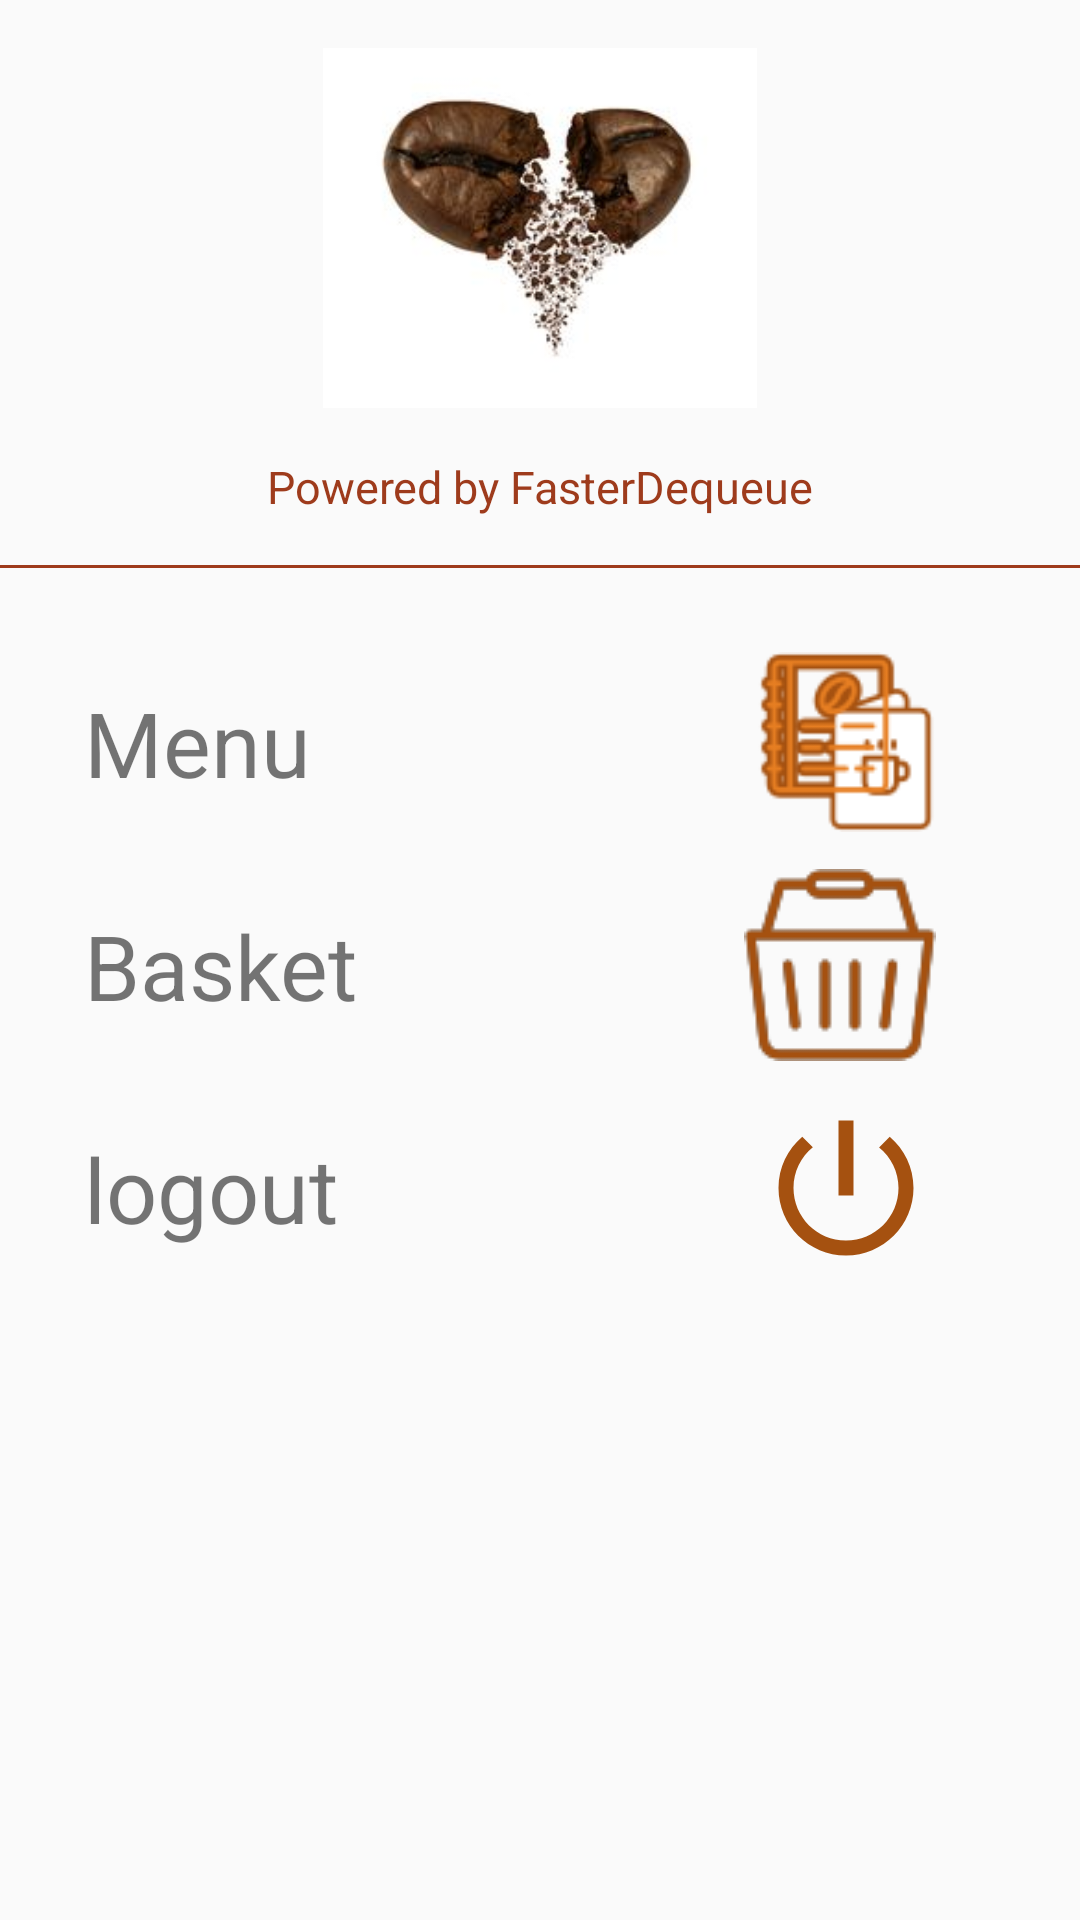

Icon click points for this 1080×1920 phone screenshot, format point (x, y):
coffeebean: point (536, 227)
